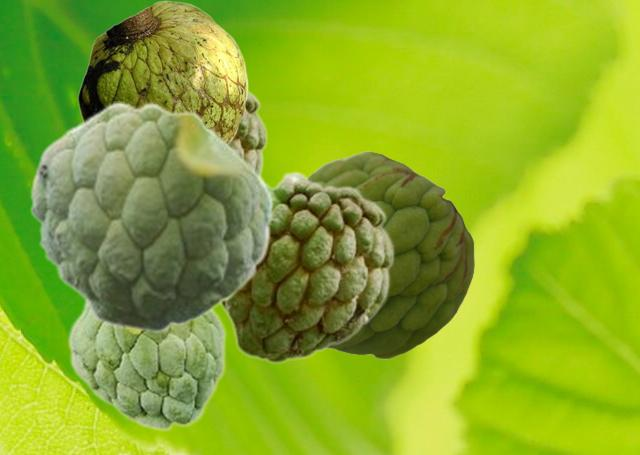atis: (29, 101, 274, 331), (308, 151, 473, 358), (219, 170, 394, 363), (77, 0, 247, 141), (66, 300, 231, 431), (232, 88, 267, 173)
